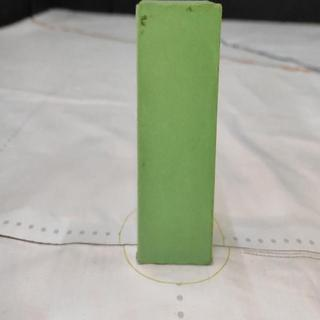greenbox: (134, 1, 216, 267)
